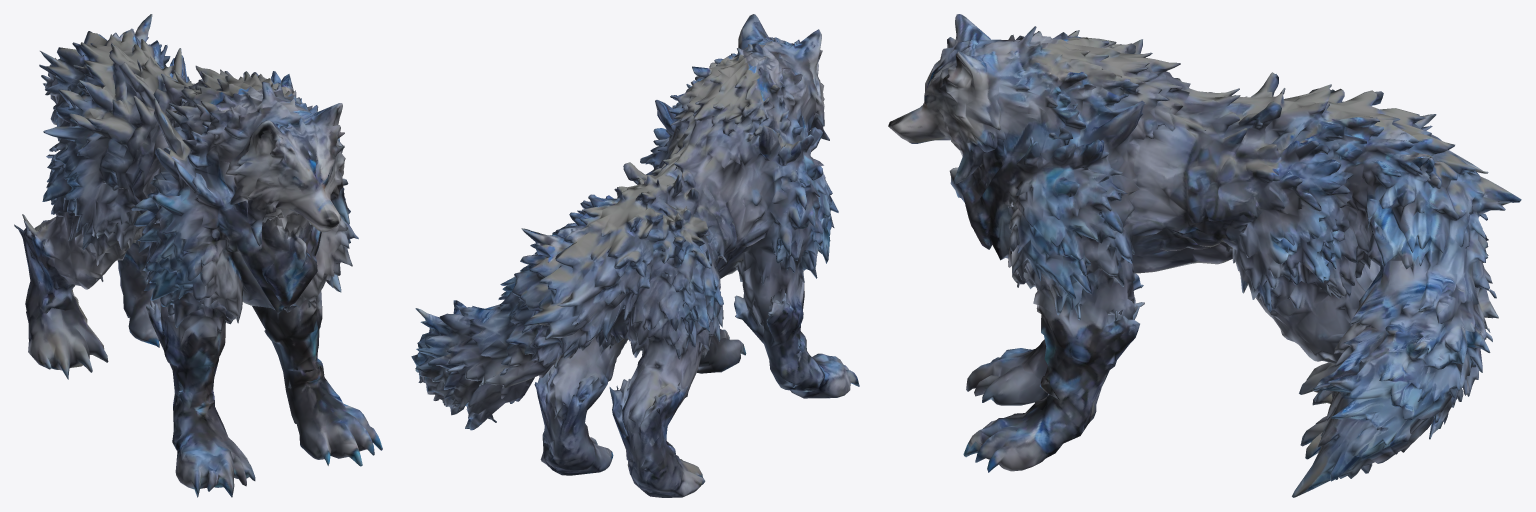
The model's file is fenrir.glb.
3 views of the same model, side by side, from view 1: azimuth 30°, elevation 25°; view 2: azimuth 150°, elevation 25°; view 3: azimuth 270°, elevation 25° (orthographic). The views are drawn at different scales.
Visible parts, largest first — view 1: tripo_node_67aa3af1-4bc4-4a43-bc8a-c6f3c7f8d480; view 2: tripo_node_67aa3af1-4bc4-4a43-bc8a-c6f3c7f8d480; view 3: tripo_node_67aa3af1-4bc4-4a43-bc8a-c6f3c7f8d480.
Boxes of the visible parts, left/top/right/bottom form: tripo_node_67aa3af1-4bc4-4a43-bc8a-c6f3c7f8d480: left=14, top=14, right=382, bottom=497; tripo_node_67aa3af1-4bc4-4a43-bc8a-c6f3c7f8d480: left=411, top=14, right=859, bottom=497; tripo_node_67aa3af1-4bc4-4a43-bc8a-c6f3c7f8d480: left=888, top=14, right=1521, bottom=497.
Size of the model in its own units: 0.6031 by 0.695 by 0.9998.
1 material, 1 textured.
